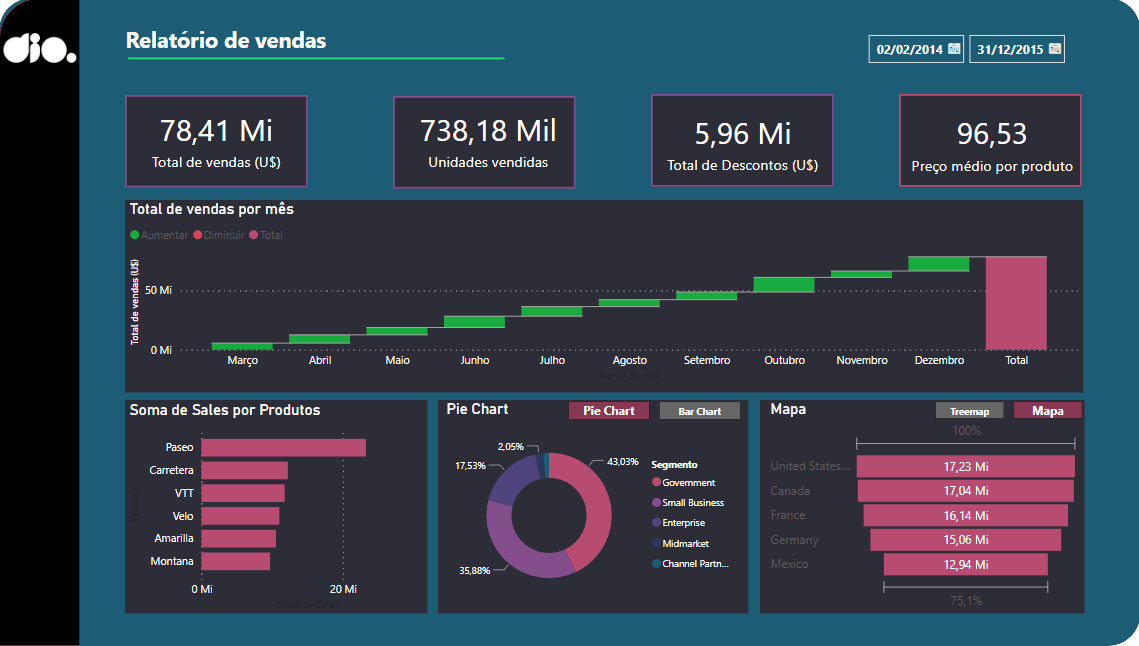

The dashboard page shown, as its layout file describes it:
{"tool":"powerbi","page":{"name":"Página 1","canvas":[1280,720],"ordinal":0},"visuals":[{"type":"shape","box":[9.2,9.2,1270.8,654.6],"z":0},{"type":"slicer","fields":{"Values":["financials.Date"]},"box":[909.4,99.8,272.2,55.6],"z":0,"group":"g3"},{"type":"shape","box":[78.5,132.3,217.7,26.1],"z":0,"group":"g6"},{"type":"shape","box":[77.7,164.6,230.8,101.5],"z":0,"group":"g2"},{"type":"group","id":"g1","title":"Sales x Country - treemap","box":[874.3,432.1,382.1,223.4],"z":0,"group":"g5"},{"type":"treemap","title":"Sales x Country","fields":{"Group":["financials.Country"],"Values":["Sum(financials. Sales)"]},"box":[874.3,432.1,382.1,223.4],"z":0,"group":"g1"},{"type":"shape","box":[4.6,9.2,64.6,654.6],"z":1000},{"type":"textbox","box":[77.7,89.2,217.7,50.8],"z":1000,"group":"g6"},{"type":"textbox","box":[704.1,105.5,199.6,45.6],"z":1000,"group":"g3"},{"type":"shape","box":[316.2,164.6,230.8,101.5],"z":1000,"group":"g2"},{"type":"donutChart","title":"Sales x Segment","fields":{"Y":["Sum(financials. Sales)"],"Category":["financials.Segment"]},"box":[77.4,426.9,386,228.7],"z":1000,"group":"g4"},{"type":"actionButton","title":"Botão - funil","box":[1103.8,430,73.8,21.9],"z":1500,"group":"g5"},{"type":"shape","box":[4.6,10,64.6,73.1],"z":2000},{"type":"actionButton","box":[1195.9,104.1,59.9,51.3],"z":2000,"group":"g3"},{"type":"shape","box":[553.8,164.6,230.8,101.5],"z":2000,"group":"g2"},{"type":"actionButton","title":"Botão - treemap","box":[1181.3,430,73.8,21.9],"z":2000,"group":"g5"},{"type":"actionButton","title":"Botão - bar","box":[305.7,430.8,73.8,21.9],"z":2000,"group":"g4"},{"type":"actionButton","title":"Botão - pie","box":[383.2,430.8,73.8,21.9],"z":2500,"group":"g4"},{"type":"image","title":"Logo Dio","box":[4.6,9.2,64.6,61.5],"z":3000},{"type":"image","title":"clean","box":[1195.9,99.8,59.9,55.6],"z":3000,"group":"g3"},{"type":"shape","box":[792.3,164.6,230.8,101.5],"z":3000,"group":"g2"},{"type":"shape","box":[69.2,10,1210.8,73.1],"z":4000},{"type":"shape","box":[1030,164.6,230.8,101.5],"z":4000,"group":"g2"},{"type":"textbox","box":[83.8,16.1,355.4,66.9],"z":5000},{"type":"card","fields":{"Values":["Sum(financials.COGS)"]},"box":[1041.6,164.6,206.9,101.5],"z":5000,"group":"g2"},{"type":"group","id":"g2","title":"Cartões","box":[77.7,164.6,1183.1,101.5],"z":6000},{"type":"card","fields":{"Values":["Sum(financials.Discounts)"]},"box":[566.2,164.6,206.9,101.5],"z":6000,"group":"g2"},{"type":"card","fields":{"Values":["Sum(financials.Units Sold)"]},"box":[327.7,164.6,206.9,101.5],"z":7000,"group":"g2"},{"type":"shape","box":[69.2,266.1,1201.5,159.2],"z":7000},{"type":"card","fields":{"Values":["Sum(financials.Discounts)"]},"box":[803.8,164.6,206.9,101.5],"z":8000,"group":"g2"},{"type":"shape","box":[77.7,426.1,386.1,229.2],"z":8000},{"type":"card","fields":{"Values":["Sum(financials. Sales)"]},"box":[89.2,164.6,206.9,101.5],"z":9000,"group":"g2"},{"type":"shape","box":[874.6,426.1,386.1,229.2],"z":9000},{"type":"shape","box":[476.9,426.1,386.1,229.2],"z":10000},{"type":"shape","box":[77.7,426.1,386.1,223.1],"z":11000},{"type":"stackedAreaChart","fields":{"Y":["Sum(financials. Sales)"],"Category":["financials.Date.Variation.Hierarquia de datas.Mês"]},"box":[89.2,285.4,1165.4,122.3],"z":12000},{"type":"clusteredBarChart","title":"Sales x Produto","fields":{"Y":["Sum(financials. Sales)"],"Category":["financials.Product"]},"box":[476.9,427.7,377.7,226.2],"z":13000},{"type":"group","id":"g3","title":"Filtro por data","box":[704.1,99.8,551.6,55.6],"z":14000},{"type":"group","id":"g4","title":"Sales x Segmento","box":[77.1,425.7,386.4,229.3],"z":15000},{"type":"group","id":"g5","title":"Sales x País","box":[874.3,430,382.1,226.4],"z":16000},{"type":"group","id":"g6","title":"Title report","box":[77.7,89.2,218.5,69.2],"z":17000},{"type":"actionButton","box":[14.2,611.7,44.2,41.7],"z":18000}]}

Visuals, with their boxes in screenshot pixels (x1, y1, x2, y2), scaled from the page's 1280x720 canvas onto the 1139x646 screenshot:
shape: {"x1": 8, "y1": 8, "x2": 1138, "y2": 596}
slicer - financials.Date: {"x1": 809, "y1": 90, "x2": 1051, "y2": 139}
shape: {"x1": 70, "y1": 119, "x2": 264, "y2": 142}
shape: {"x1": 69, "y1": 148, "x2": 275, "y2": 239}
"Sales x Country - treemap" group: {"x1": 778, "y1": 388, "x2": 1118, "y2": 588}
"Sales x Country" treemap: {"x1": 778, "y1": 388, "x2": 1118, "y2": 588}
shape: {"x1": 4, "y1": 8, "x2": 62, "y2": 596}
textbox: {"x1": 69, "y1": 80, "x2": 263, "y2": 126}
textbox: {"x1": 627, "y1": 95, "x2": 804, "y2": 136}
shape: {"x1": 281, "y1": 148, "x2": 487, "y2": 239}
"Sales x Segment" donutChart: {"x1": 69, "y1": 383, "x2": 412, "y2": 588}
"Botão - funil" actionButton: {"x1": 982, "y1": 386, "x2": 1048, "y2": 405}
shape: {"x1": 4, "y1": 9, "x2": 62, "y2": 75}
actionButton: {"x1": 1064, "y1": 93, "x2": 1117, "y2": 139}
shape: {"x1": 493, "y1": 148, "x2": 698, "y2": 239}
"Botão - treemap" actionButton: {"x1": 1051, "y1": 386, "x2": 1117, "y2": 405}
"Botão - bar" actionButton: {"x1": 272, "y1": 387, "x2": 338, "y2": 406}
"Botão - pie" actionButton: {"x1": 341, "y1": 387, "x2": 407, "y2": 406}
"Logo Dio" image: {"x1": 4, "y1": 8, "x2": 62, "y2": 63}
"clean" image: {"x1": 1064, "y1": 90, "x2": 1117, "y2": 139}
shape: {"x1": 705, "y1": 148, "x2": 910, "y2": 239}
shape: {"x1": 62, "y1": 9, "x2": 1138, "y2": 75}
shape: {"x1": 917, "y1": 148, "x2": 1122, "y2": 239}
textbox: {"x1": 75, "y1": 14, "x2": 391, "y2": 74}
card - Sum(financials.COGS): {"x1": 927, "y1": 148, "x2": 1111, "y2": 239}
"Cartões" group: {"x1": 69, "y1": 148, "x2": 1122, "y2": 239}
card - Sum(financials.Discounts): {"x1": 504, "y1": 148, "x2": 688, "y2": 239}
card - Sum(financials.Units Sold): {"x1": 292, "y1": 148, "x2": 476, "y2": 239}
shape: {"x1": 62, "y1": 239, "x2": 1131, "y2": 382}
card - Sum(financials.Discounts): {"x1": 715, "y1": 148, "x2": 899, "y2": 239}
shape: {"x1": 69, "y1": 382, "x2": 413, "y2": 588}
card - Sum(financials. Sales): {"x1": 79, "y1": 148, "x2": 263, "y2": 239}
shape: {"x1": 778, "y1": 382, "x2": 1122, "y2": 588}
shape: {"x1": 424, "y1": 382, "x2": 768, "y2": 588}
shape: {"x1": 69, "y1": 382, "x2": 413, "y2": 582}
stackedAreaChart - Sum(financials. Sales) x financials.Date.Variation.Hierarquia de datas.Mês: {"x1": 79, "y1": 256, "x2": 1116, "y2": 366}
"Sales x Produto" clusteredBarChart: {"x1": 424, "y1": 384, "x2": 760, "y2": 587}
"Filtro por data" group: {"x1": 627, "y1": 90, "x2": 1117, "y2": 139}
"Sales x Segmento" group: {"x1": 69, "y1": 382, "x2": 412, "y2": 588}
"Sales x País" group: {"x1": 778, "y1": 386, "x2": 1118, "y2": 589}
"Title report" group: {"x1": 69, "y1": 80, "x2": 264, "y2": 142}
actionButton: {"x1": 13, "y1": 549, "x2": 52, "y2": 586}
